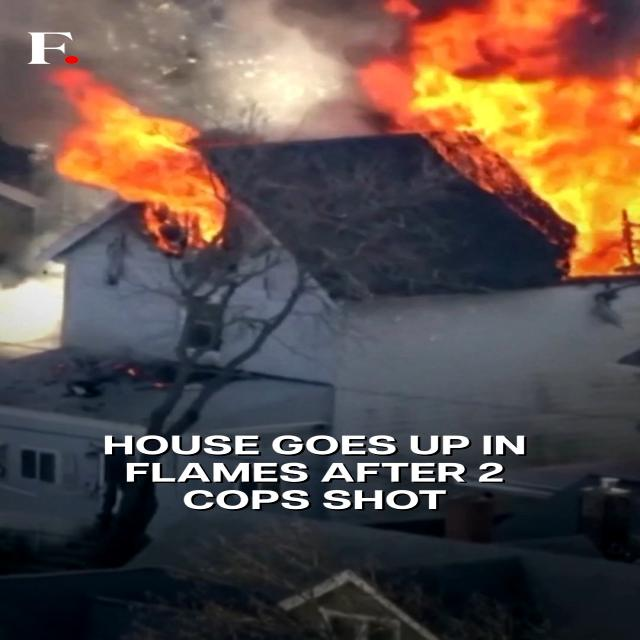Fire: (348, 0, 640, 292), (51, 70, 241, 252)
